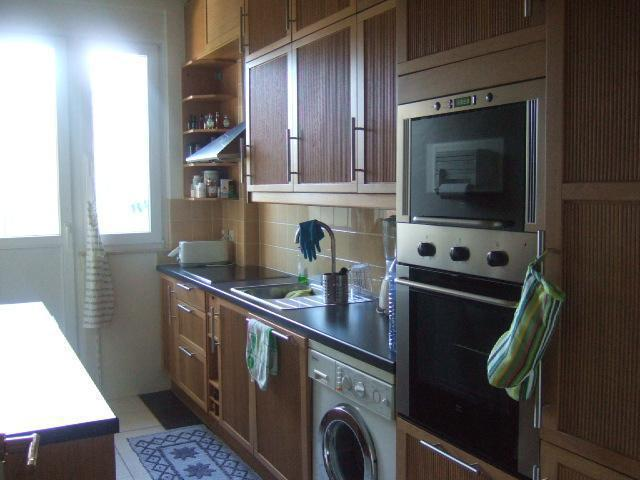Electrodomestico: (399, 105, 538, 474), (316, 333, 399, 476)
Lavaplatos: (247, 207, 368, 325)
Puerta: (2, 27, 77, 401)
